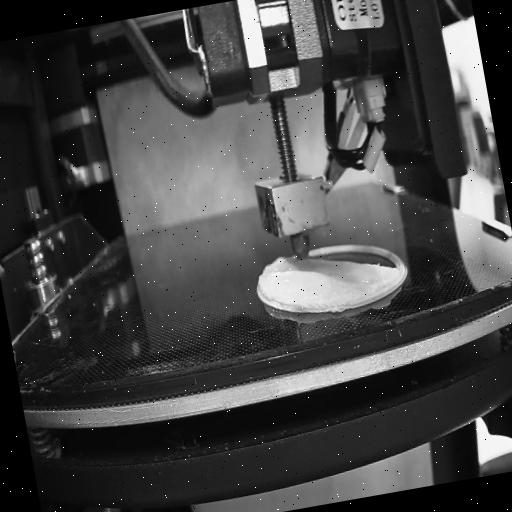over_extrusion: (254, 256, 290, 302)
